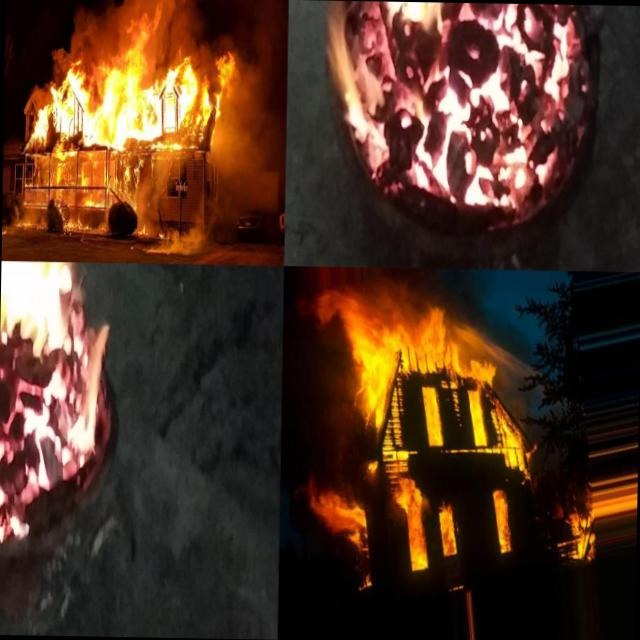fire: (0, 261, 118, 543), (308, 0, 468, 207), (464, 2, 596, 224), (22, 48, 240, 157), (345, 304, 493, 424), (304, 480, 371, 554), (394, 473, 432, 583), (491, 408, 536, 478), (54, 152, 118, 190), (488, 474, 512, 562), (123, 0, 163, 49), (436, 497, 457, 566)
smoke: (8, 192, 148, 242), (204, 124, 261, 206), (148, 206, 230, 260), (236, 31, 275, 125), (65, 0, 123, 48), (162, 0, 210, 49), (148, 155, 180, 205)
